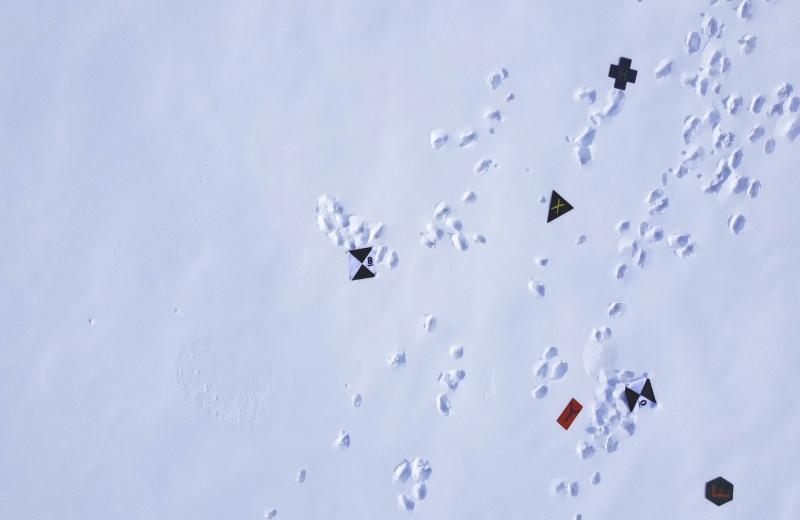Cross: (605, 55, 640, 93)
Hexagon: (699, 475, 736, 508)
Rectangle: (555, 394, 585, 432)
Triangle: (543, 187, 576, 224)
